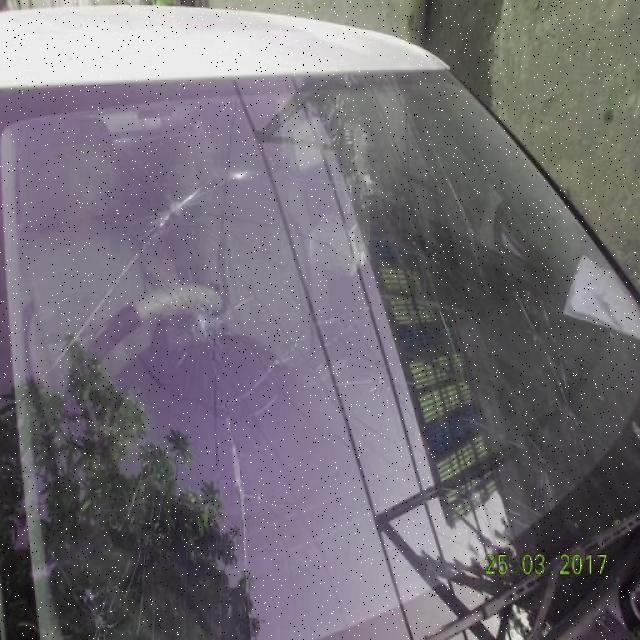car damage: (512, 282, 581, 359), (128, 488, 184, 574), (402, 230, 459, 311), (512, 422, 565, 507), (149, 168, 210, 240), (178, 293, 223, 372), (568, 390, 598, 462), (462, 218, 488, 281), (84, 598, 122, 637)
